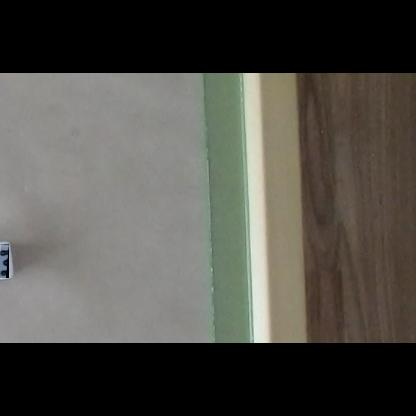8s: (0, 244, 9, 278)
